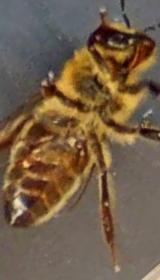varroa_mite: (63, 131, 95, 173)
